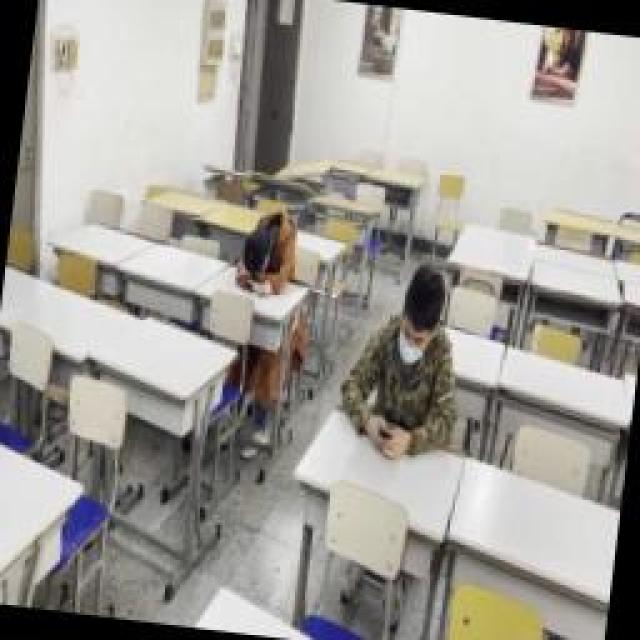phone: (333, 268, 475, 468)
sleep: (235, 208, 297, 292)
